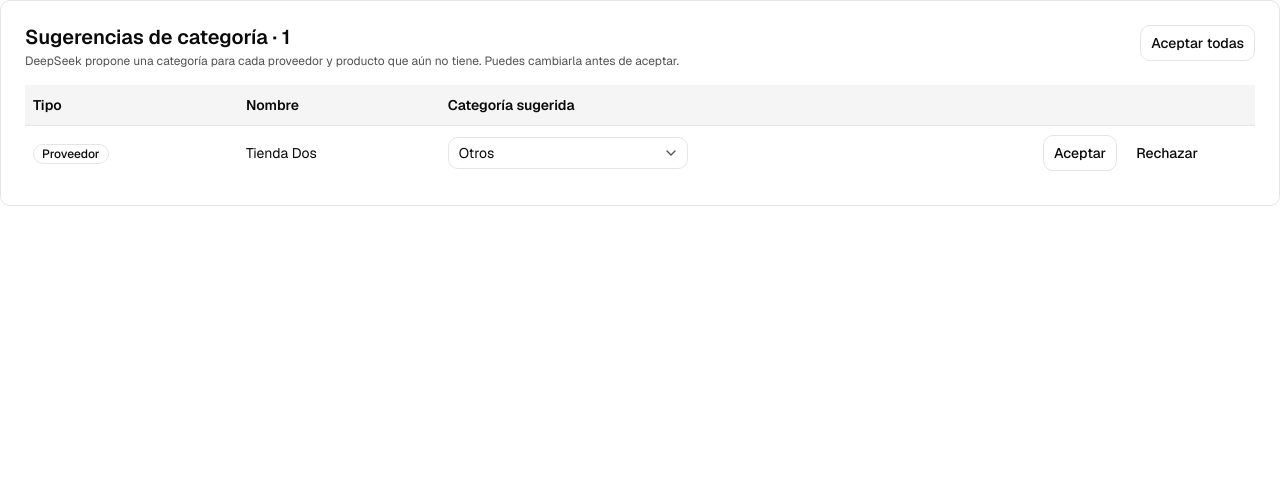
Test: the model's proposed new category stays selectable (IN-02) › lists «Nueva: …» for a row whose choice is an existing category but that has a proposal
What coordinates should you click on to do the following:
click the dropdown named "Categoría sugerida para Tienda Dos"
I would click on:
 (568, 153)
Its box is [448,137,688,169].
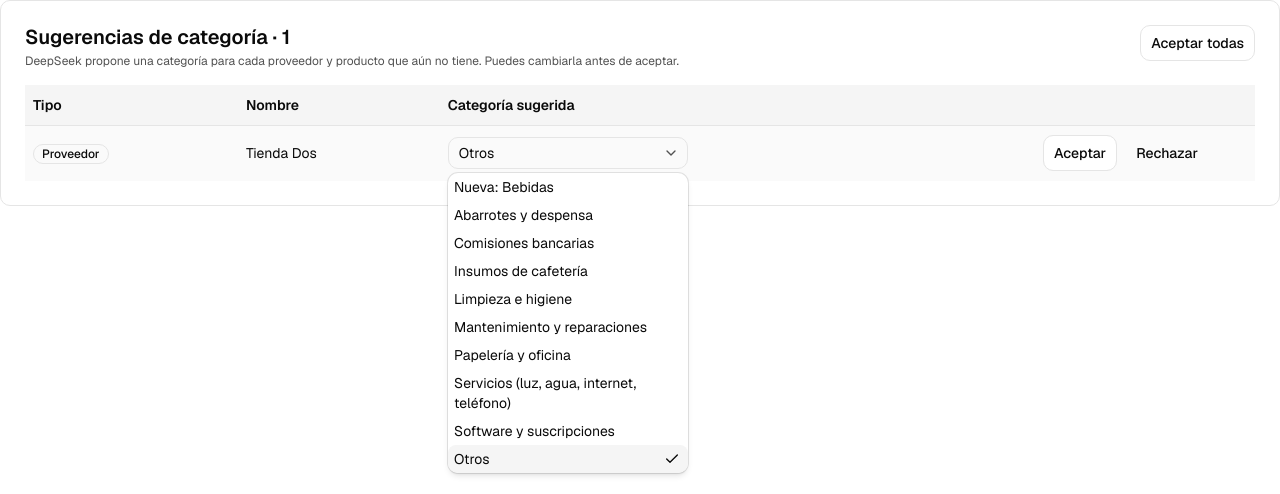
Result: the text "Nueva: Bebidas" is shown at [454,177,554,197]
